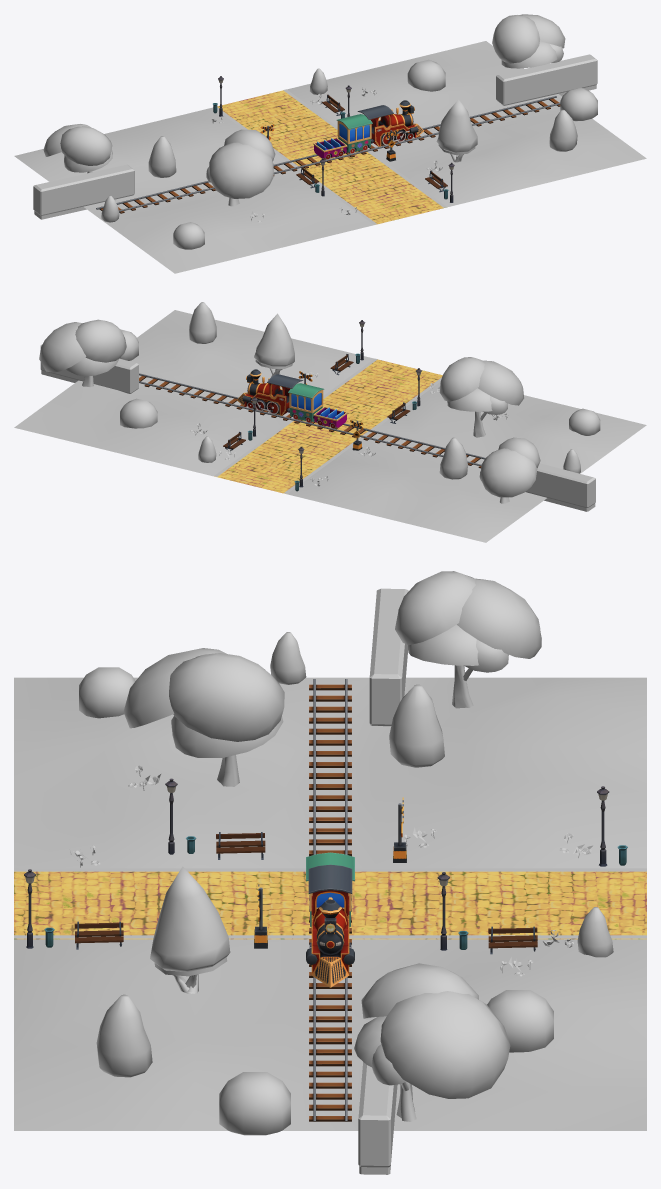
File: Park_Train_Chunk.FBX
The picture shows the model from 3 angles, top to bottom: view 1: azimuth 30°, elevation 25°; view 2: azimuth 150°, elevation 25°; view 3: azimuth 270°, elevation 25°; orthographic projection. The views are drawn at different scales.
Visible parts, largest first — view 1: Terrain, Bushes, Trees, MainRoad, Tracks, Locomotive, Benches, TrainCarClosed, GrassStrip, TrainCarOpen; view 2: Terrain, Trees, MainRoad, Bushes, Tracks, Locomotive, Benches, TrainCarClosed, GrassStrip, TrainCarOpen; view 3: Terrain, Trees, MainRoad, Bushes, Tracks, Benches, Locomotive, GrassStrip, TrainCarClosed, RoadCrossing.
Boxes of the visible parts, left/top/right/bottom form: Terrain: left=14, top=41, right=646, bottom=273; Bushes: left=33, top=54, right=597, bottom=249; Trees: left=43, top=14, right=565, bottom=206; MainRoad: left=217, top=90, right=446, bottom=224; Tracks: left=96, top=96, right=560, bottom=213; Locomotive: left=357, top=100, right=423, bottom=146; Benches: left=213, top=76, right=454, bottom=202; TrainCarClosed: left=336, top=114, right=372, bottom=152; GrassStrip: left=217, top=89, right=446, bottom=224; TrainCarOpen: left=313, top=137, right=347, bottom=158; Terrain: left=14, top=310, right=646, bottom=542; Trees: left=39, top=313, right=540, bottom=503; MainRoad: left=214, top=359, right=442, bottom=493; Bushes: left=40, top=302, right=600, bottom=511; Tracks: left=139, top=373, right=485, bottom=468; Locomotive: left=236, top=369, right=303, bottom=415; Benches: left=223, top=320, right=421, bottom=491; TrainCarClosed: left=288, top=383, right=324, bottom=421; GrassStrip: left=214, top=358, right=441, bottom=493; TrainCarOpen: left=313, top=406, right=347, bottom=427; Terrain: left=14, top=677, right=646, bottom=1130; Trees: left=123, top=571, right=541, bottom=1121; MainRoad: left=14, top=871, right=646, bottom=939; Bushes: left=69, top=588, right=613, bottom=1174; Tracks: left=309, top=679, right=351, bottom=1121; Benches: left=24, top=778, right=627, bottom=954; Locomotive: left=306, top=864, right=354, bottom=987; GrassStrip: left=14, top=868, right=646, bottom=938; TrainCarClosed: left=306, top=852, right=354, bottom=927; RoadCrossing: left=254, top=797, right=406, bottom=948.
Bounding box in the file's own units: 298 × 39.11 × 150.
